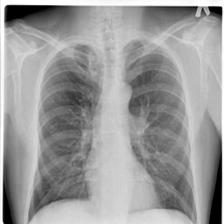tuberculosis: (23, 31, 202, 224)
